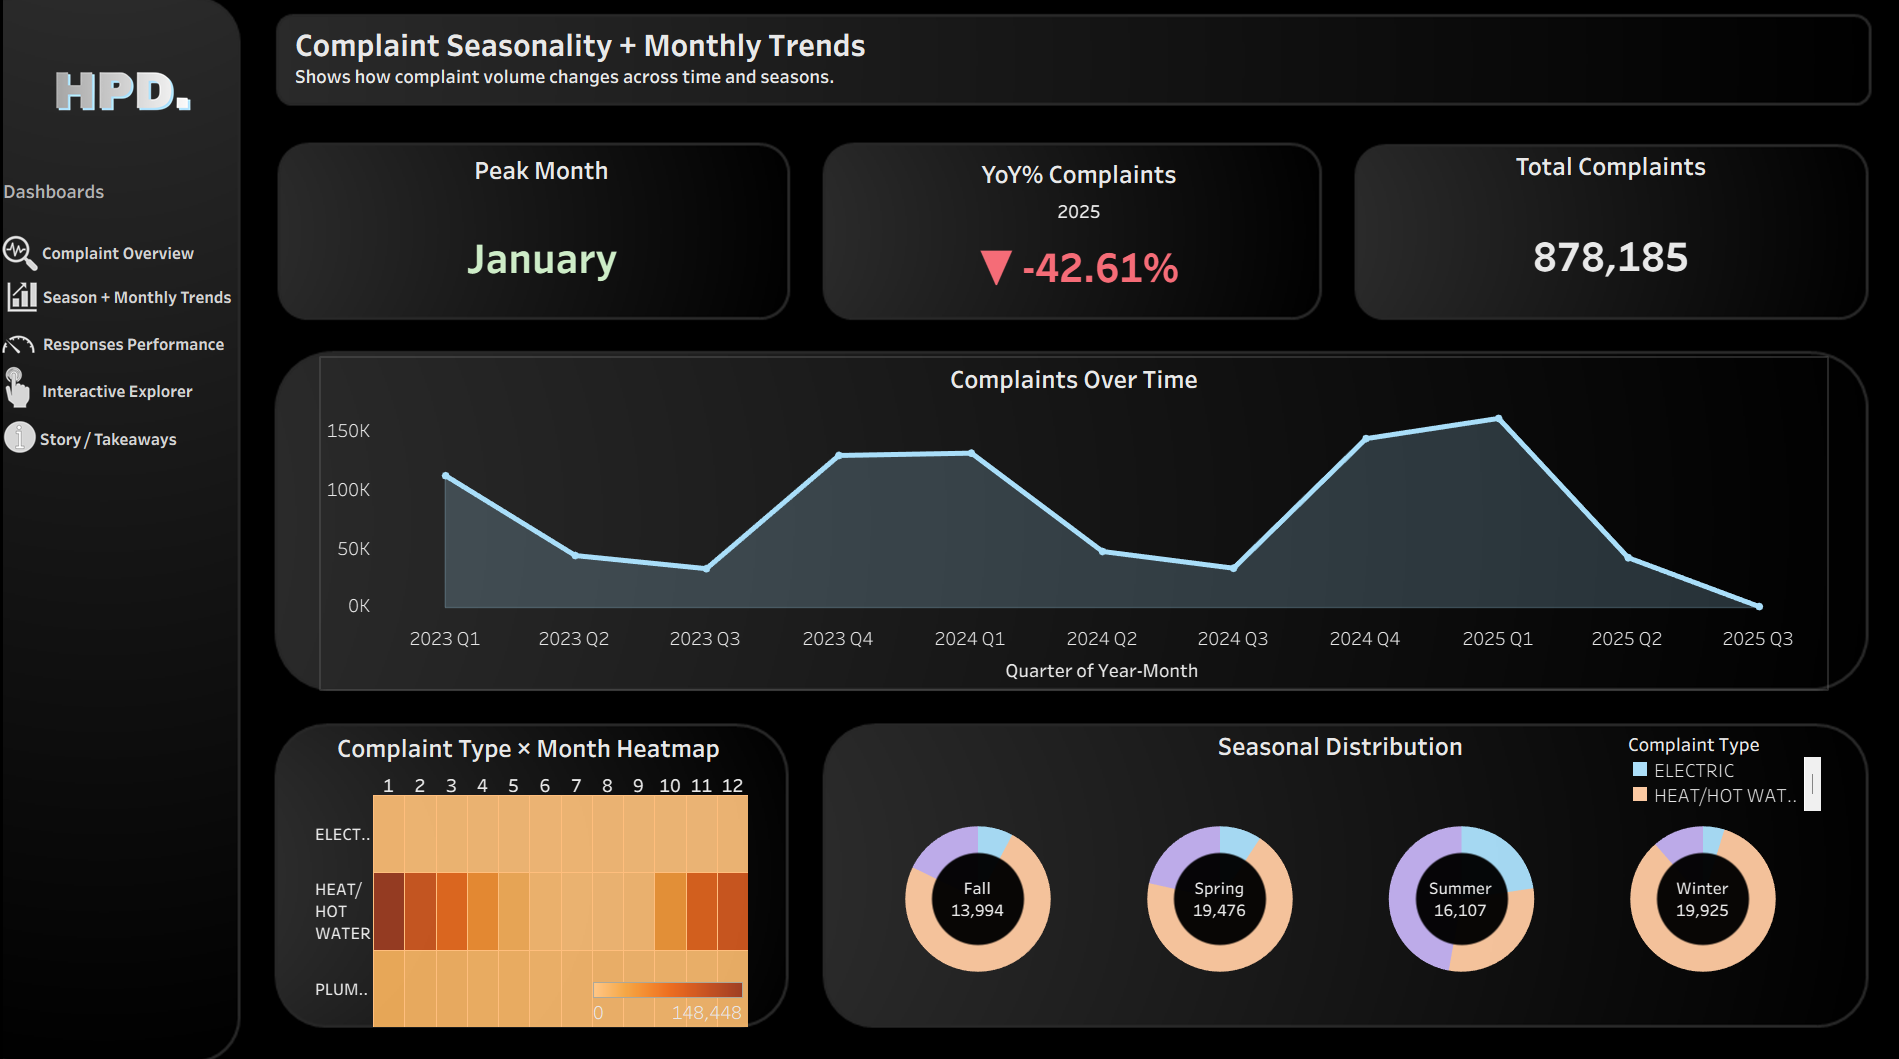

What the dashboard file says about the page in this screenshot:
{"tool":"tableau","page":{"name":"Dashboard 2","canvas":[1920,1080],"ordinal":1},"visuals":[{"type":"image","param":"C:/Users/nelso/OneDrive/Desktop/HPD Dash 2.png","box":[8,8,1904,1064]},{"type":"image","param":"C:/Users/nelso/AppData/Local/Temp/TableauTemp/0lfkazb0qi0guh1554uku0vzvky3/Sheet","box":[18,18,230,173]},{"type":"text","box":[302,27,774,78]},{"type":"worksheet","title":"D2-KPI-2","mark":"Text","box":[1400,155,444,172]},{"type":"worksheet","title":"D2-KPI-1","mark":"Text","box":[332,159,441,168]},{"type":"worksheet","title":"D2-KPI-3","mark":"Text","cols":["year"],"box":[893,163,394,158]},{"type":"text","box":[10,186,110,30]},{"type":"dashboard-object","box":[19,251,221,25]},{"type":"dashboard-object","box":[34,287,228,40]},{"type":"dashboard-object","box":[21,330,249,48]},{"type":"worksheet","title":"D2-A-Complaint O Time","mark":"Line","rows":["Calculation_215046898719772681","Calculation_215046898719772681"],"cols":["Calculation_215046899800145937","Calculation_215046899800145937"],"box":[332,368,1506,331]},{"type":"dashboard-object","box":[33,375,190,52]},{"type":"dashboard-object","box":[37,423,164,52]},{"type":"worksheet","title":"D2-P- Seasonal Dist.","mark":"Circle","cols":["season","Calculation_2010012826654965760","Calculation_2010012826655633412"],"box":[868,735,967,300]},{"type":"worksheet","title":"D2-H-ComplaintxMonth","mark":"Square","rows":["Complaint Type"],"cols":["month"],"box":[320,737,439,300]},{"type":"legend","title":"D2-P- Seasonal Dist.","param":"[federated.1kdeqq41o98p49128sxix1qtlnvn].[none:Complaint Type:nk]","box":[1639,741,195,80]},{"type":"legend","title":"D2-H-ComplaintxMonth","param":"[federated.1kdeqq41o98p49128sxix1qtlnvn].[usr:Calculation_215046898719772681:qk]","box":[600,988,158,46]}]}

Visuals, with their boxes on the page's 1920x1080 design canvas (x1, y1, x2, y2). These are canvas units, not pixel positions in the 1899x1059 screenshot, which may show the page scaled, cropped or inside an application window:
image: 8 8 1912 1072
image: 18 18 248 191
text: 302 27 1076 105
"D2-KPI-2" worksheet (Text marks): 1400 155 1844 327
"D2-KPI-1" worksheet (Text marks): 332 159 773 327
"D2-KPI-3" worksheet (Text marks): 893 163 1287 321
text: 10 186 120 216
dashboard-object: 19 251 240 276
dashboard-object: 34 287 262 327
dashboard-object: 21 330 270 378
"D2-A-Complaint O Time" worksheet (Line marks): 332 368 1838 699
dashboard-object: 33 375 223 427
dashboard-object: 37 423 201 475
"D2-P- Seasonal Dist." worksheet (Circle marks): 868 735 1835 1035
"D2-H-ComplaintxMonth" worksheet (Square marks): 320 737 759 1037
"D2-P- Seasonal Dist." legend: 1639 741 1834 821
"D2-H-ComplaintxMonth" legend: 600 988 758 1034
